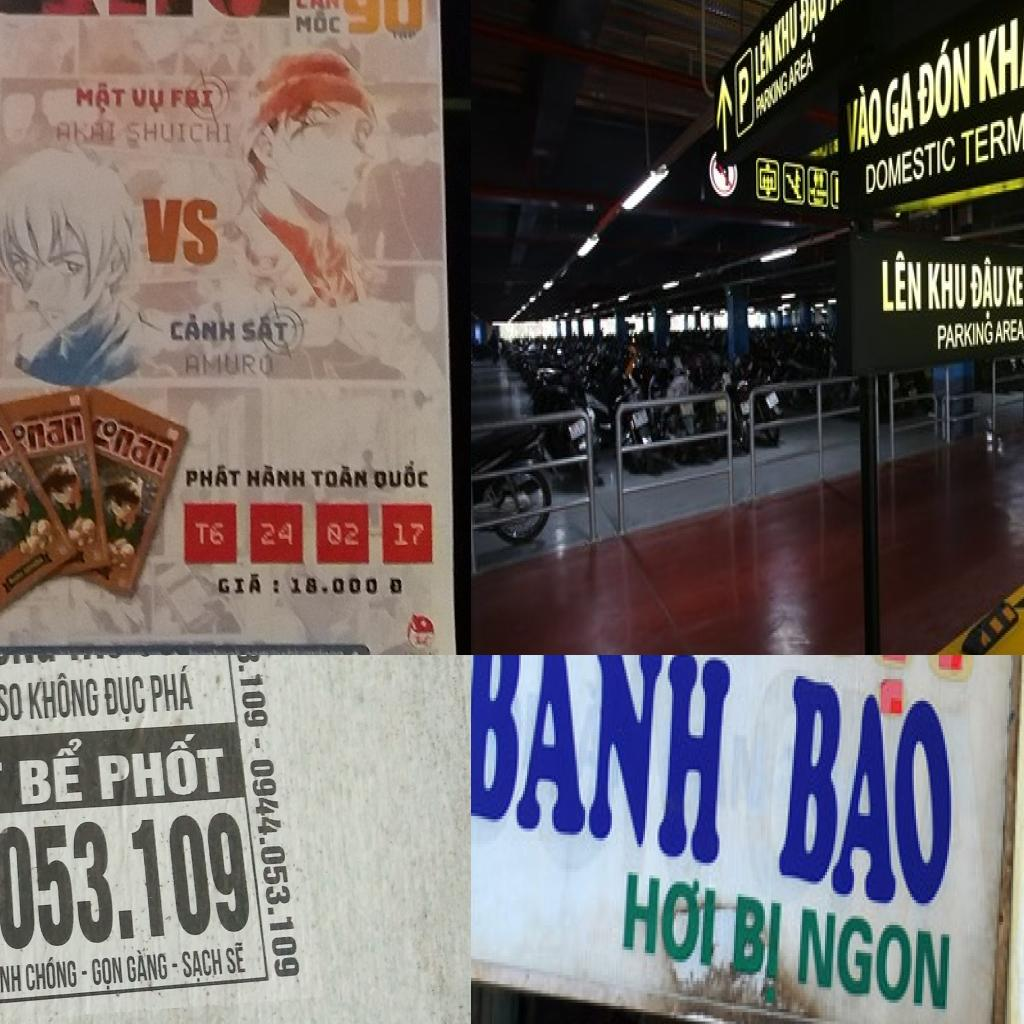text: (471, 655, 742, 869), (775, 670, 966, 922), (0, 806, 254, 974), (690, 655, 998, 738), (794, 900, 953, 1018), (618, 856, 720, 972), (95, 728, 229, 802), (728, 885, 786, 1009), (862, 130, 958, 200), (141, 189, 225, 267), (912, 28, 973, 132), (85, 414, 174, 478), (959, 86, 1024, 173), (976, 0, 1024, 105), (17, 735, 85, 808), (27, 669, 101, 721), (220, 655, 271, 730), (125, 116, 234, 148), (878, 249, 925, 317), (843, 77, 883, 156), (180, 350, 275, 382), (344, 0, 424, 35), (164, 308, 237, 345), (102, 672, 149, 726), (969, 256, 1006, 324), (884, 69, 918, 141), (148, 664, 196, 714), (24, 954, 80, 995), (925, 260, 969, 311), (28, 415, 85, 453), (243, 458, 310, 490), (373, 456, 432, 492), (54, 114, 119, 146), (936, 319, 994, 353), (72, 78, 126, 114), (772, 0, 799, 71), (754, 69, 788, 124), (180, 946, 226, 986), (184, 460, 240, 490), (308, 461, 368, 489), (124, 946, 168, 984), (239, 312, 290, 344), (752, 20, 775, 90), (213, 571, 265, 601), (798, 0, 826, 54), (90, 954, 125, 992), (130, 84, 168, 118), (294, 8, 342, 34), (328, 574, 382, 597), (788, 48, 816, 92), (170, 85, 214, 112), (259, 518, 298, 548), (735, 60, 751, 128), (392, 518, 427, 549), (326, 519, 361, 549), (0, 681, 25, 723), (993, 317, 1024, 349), (194, 518, 226, 548), (1004, 264, 1024, 310), (223, 940, 248, 976), (288, 572, 321, 598), (0, 961, 23, 998), (384, 572, 405, 598), (294, 0, 342, 11), (826, 0, 849, 18), (389, 28, 417, 41), (270, 575, 283, 596), (13, 647, 45, 655), (120, 646, 146, 655), (148, 648, 164, 655), (320, 584, 330, 595)
